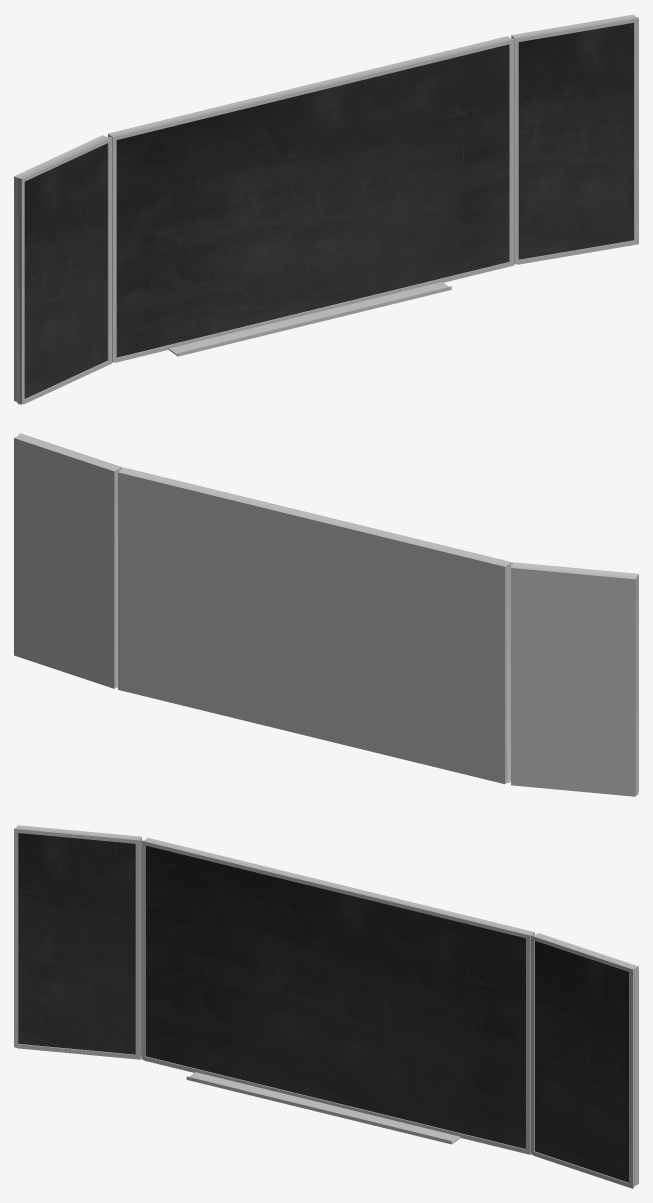
Rendered from Blackboard.FBX.
3 views of the same model, one above another, from view 1: azimuth 30°, elevation 25°; view 2: azimuth 150°, elevation 25°; view 3: azimuth 330°, elevation 25° (orthographic). The views are drawn at different scales.
Parts seen in each view (by area): view 1: blackboard; view 2: blackboard; view 3: blackboard.
Part boxes in pixels (x1,y1,x2,y2): blackboard: (14, 14, 638, 404); blackboard: (14, 433, 638, 796); blackboard: (14, 825, 638, 1188).
Bounding box in the file's own units: 346 × 119 × 24.76.
